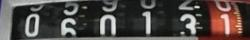digits: (179, 12, 196, 34), (24, 13, 40, 36), (99, 15, 116, 34), (60, 18, 77, 36), (219, 12, 230, 34), (141, 10, 151, 34)
